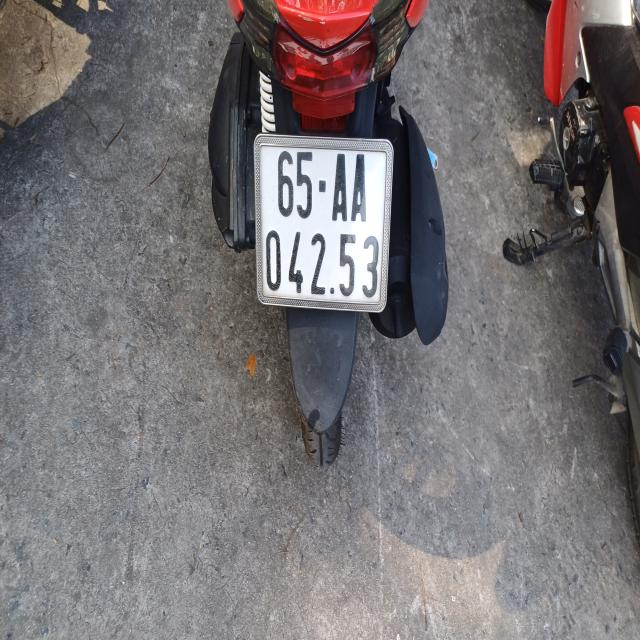0: (265, 230, 281, 290)
2: (310, 232, 324, 296)
3: (363, 236, 378, 297)
4: (290, 232, 303, 294)
5: (296, 151, 312, 219), (340, 231, 356, 299)
6: (278, 150, 294, 217)
A: (351, 153, 367, 223), (332, 152, 348, 221)
